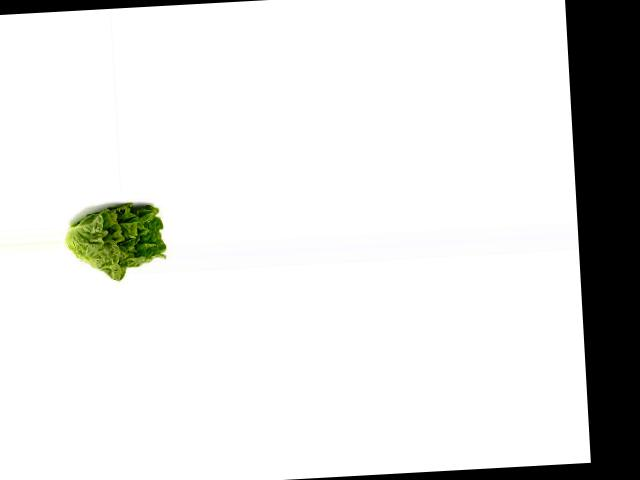lettuce: (64, 195, 167, 282)
